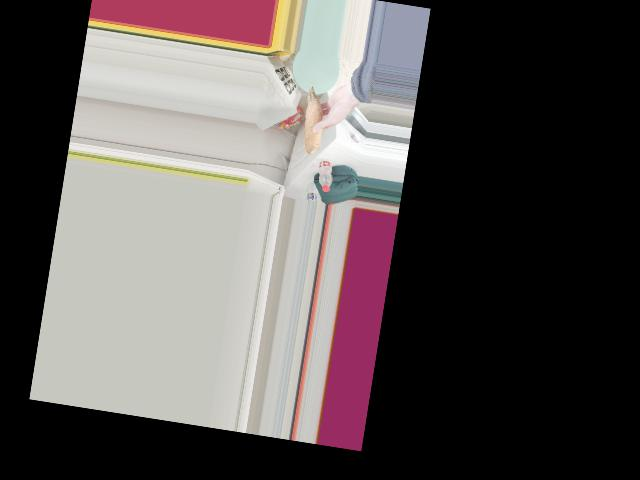sweet_potato: (297, 81, 326, 158)
